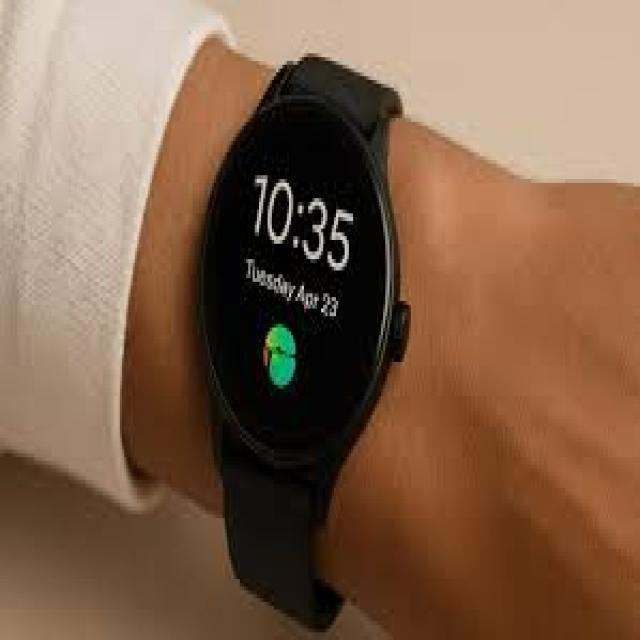objects: (199, 54, 412, 635)
